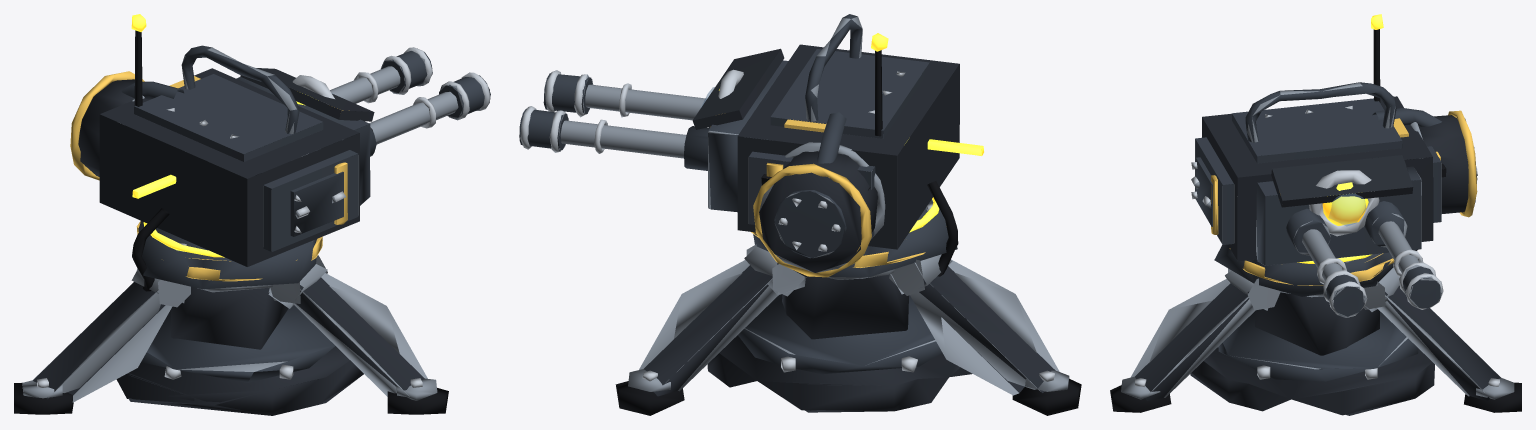
The model's file is turret.glb.
3 views of the same model, side by side, from view 1: azimuth 30°, elevation 25°; view 2: azimuth 150°, elevation 25°; view 3: azimuth 270°, elevation 25° (orthographic). The views are drawn at different scales.
Parts seen in each view (by area): view 1: mov_torreta, plato, pata_2, pata_1, tapa, mov_canones, columna, anillo, pie_1, pie_2, eje_pata_2, eje_pata_1 (+4 smaller); view 2: mov_torreta, pata_1, mov_canones, plato, pata_3, tapa, columna, anillo, pie_1, eje_pata_3, pie_3, eje_pata_1 (+2 smaller); view 3: mov_torreta, plato, mov_canones, pata_2, tapa, columna, pata_3, anillo, eje_pata_2, pie_3, pie_2, eje_pata_3 (+3 smaller).
Part boxes in pixels (x1=…): mov_torreta: x1=70, y1=14, x2=374, y2=291; plato: x1=116, y1=346, x2=363, y2=415; pata_2: x1=292, y1=273, x2=427, y2=396; pata_1: x1=32, y1=282, x2=172, y2=402; tapa: x1=141, y1=305, x2=335, y2=382; mov_canones: x1=292, y1=47, x2=490, y2=160; columna: x1=171, y1=286, x2=287, y2=349; anillo: x1=138, y1=221, x2=316, y2=289; pie_1: x1=14, y1=383, x2=73, y2=414; pie_2: x1=387, y1=388, x2=448, y2=414; eje_pata_2: x1=268, y1=255, x2=327, y2=308; eje_pata_1: x1=131, y1=268, x2=190, y2=307; mov_torreta: x1=692, y1=14, x2=983, y2=277; pata_1: x1=910, y1=259, x2=1059, y2=395; mov_canones: x1=519, y1=70, x2=772, y2=170; plato: x1=707, y1=335, x2=972, y2=412; pata_3: x1=639, y1=260, x2=778, y2=396; tapa: x1=738, y1=294, x2=942, y2=374; columna: x1=782, y1=274, x2=908, y2=339; anillo: x1=753, y1=199, x2=957, y2=277; pie_1: x1=1012, y1=378, x2=1081, y2=415; eje_pata_3: x1=744, y1=244, x2=806, y2=296; pie_3: x1=615, y1=381, x2=684, y2=415; eje_pata_1: x1=889, y1=254, x2=952, y2=295; mov_torreta: x1=1191, y1=14, x2=1477, y2=265; plato: x1=1190, y1=347, x2=1434, y2=415; mov_canones: x1=1286, y1=201, x2=1443, y2=317; pata_2: x1=1130, y1=278, x2=1255, y2=400; tapa: x1=1218, y1=311, x2=1418, y2=381; columna: x1=1255, y1=292, x2=1379, y2=355; pata_3: x1=1377, y1=285, x2=1500, y2=401; anillo: x1=1214, y1=244, x2=1417, y2=296; eje_pata_2: x1=1225, y1=268, x2=1280, y2=310; pie_3: x1=1464, y1=382, x2=1521, y2=412; pie_2: x1=1110, y1=385, x2=1171, y2=412; eje_pata_3: x1=1364, y1=267, x2=1399, y2=311.
Size of the model in its own units: 0.7789 by 0.5166 by 0.6051.
